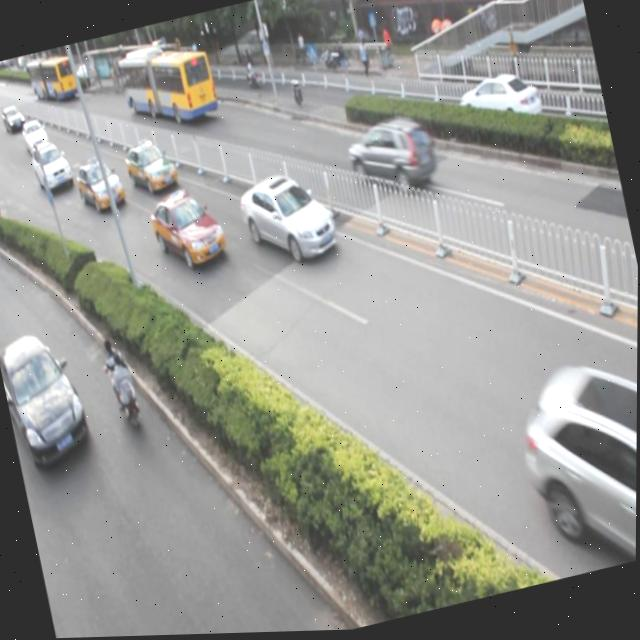car: (509, 346, 638, 581), (0, 322, 94, 473), (234, 164, 340, 274), (340, 111, 440, 208), (453, 65, 546, 151), (145, 181, 229, 276), (121, 133, 179, 201), (73, 155, 128, 217), (29, 137, 75, 193), (20, 117, 52, 156)
van: (114, 32, 221, 136)
